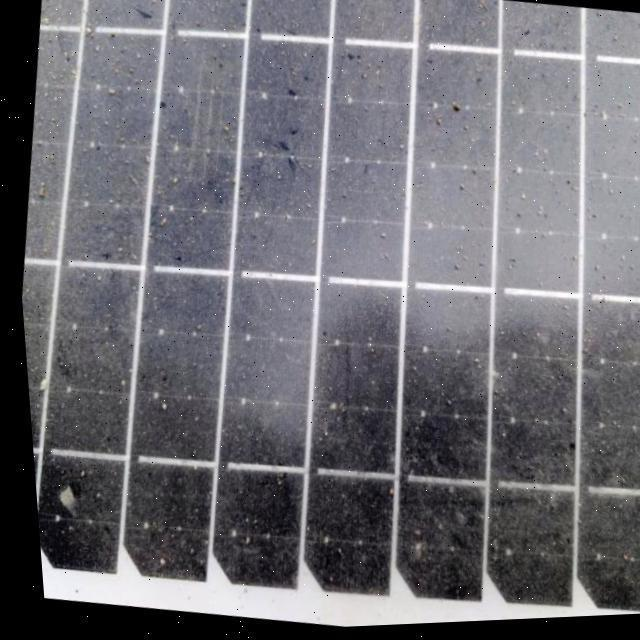Surface Contaminant: (38, 0, 640, 623)
